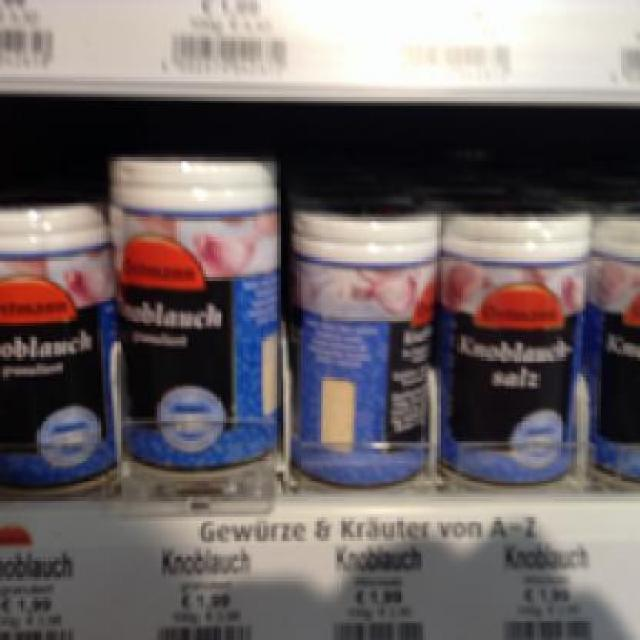Spices: (106, 153, 274, 470), (437, 194, 592, 483), (285, 197, 438, 486), (0, 200, 109, 497)
